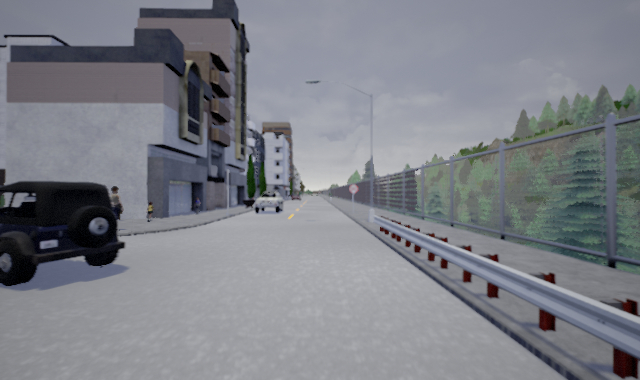pedestrian: (100, 185, 127, 231), (143, 200, 157, 221), (191, 195, 204, 213)
traffic_sign: (347, 183, 361, 194)
vehicle: (1, 178, 125, 286), (253, 189, 284, 214)
